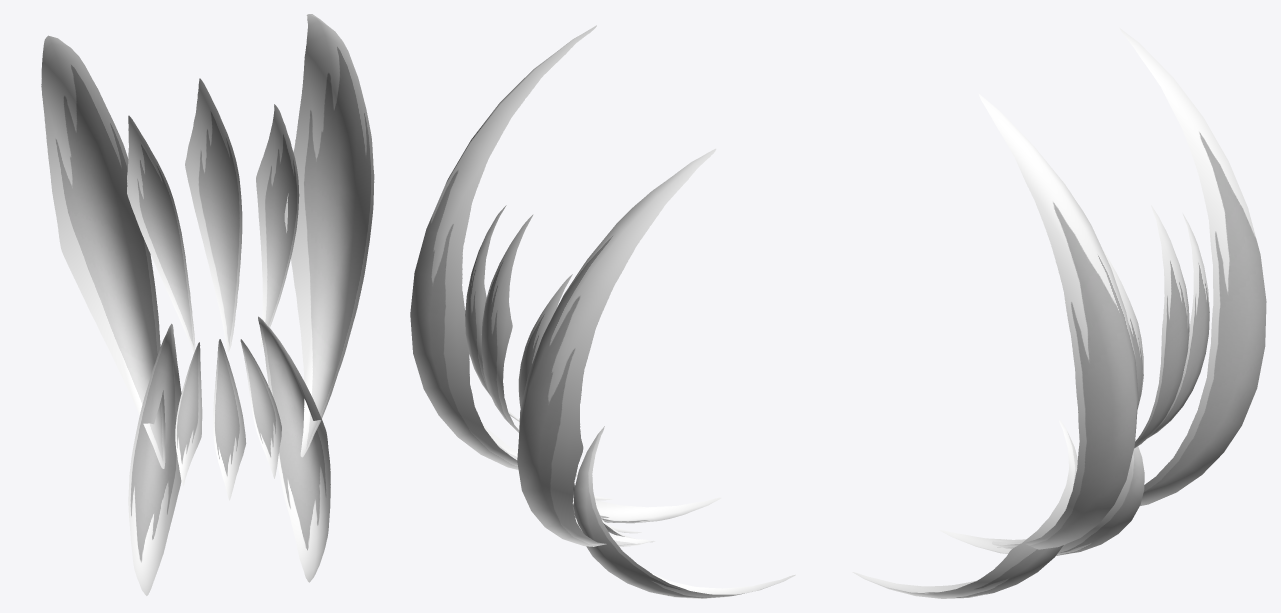
The model's file is fx_m10309_skill01.fbx.
The picture shows the model from 3 angles, left to right: view 1: azimuth 30°, elevation 25°; view 2: azimuth 150°, elevation 25°; view 3: azimuth 270°, elevation 25°; orthographic projection.
Visible parts, largest first — view 1: trail_alpha_out, trail_alpha, trail_bottom_out_alpha, trail_bottom_alpha; view 2: trail_alpha_out, trail_alpha, trail_bottom_out_alpha; view 3: trail_alpha_out, trail_alpha, trail_bottom_out_alpha.
Boxes of the visible parts, bbox=[...] form: trail_alpha_out: bbox=[41, 14, 374, 468]; trail_alpha: bbox=[127, 78, 299, 351]; trail_bottom_out_alpha: bbox=[128, 316, 330, 595]; trail_bottom_alpha: bbox=[175, 339, 281, 500]; trail_alpha_out: bbox=[410, 25, 716, 547]; trail_alpha: bbox=[465, 205, 572, 432]; trail_bottom_out_alpha: bbox=[573, 426, 795, 598]; trail_alpha_out: bbox=[979, 27, 1266, 549]; trail_alpha: bbox=[1103, 205, 1209, 448]; trail_bottom_out_alpha: bbox=[852, 420, 1144, 598].
Bounding box in the file's own units: 240 × 360 × 259.
Materials: 2 (2 with a texture image).
